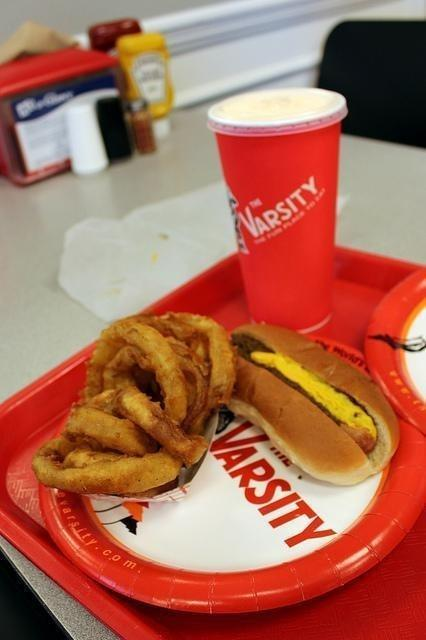cup-disposable: (208, 87, 350, 335)
